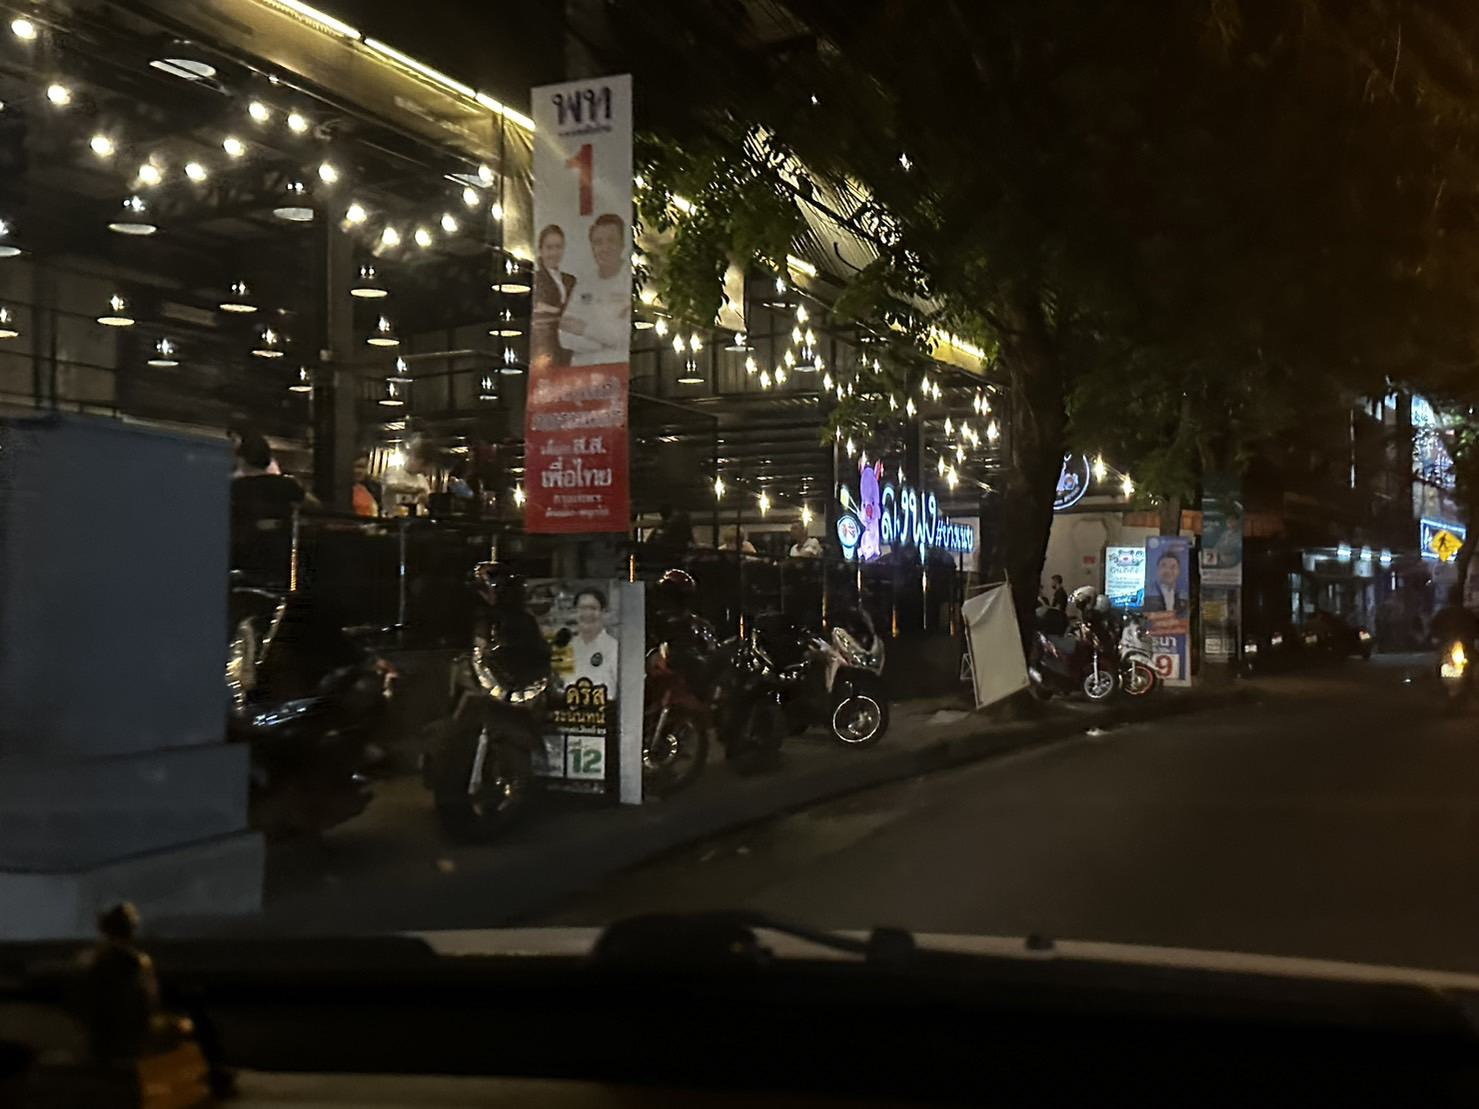Banner: (529, 83, 622, 536), (1141, 534, 1188, 688)
